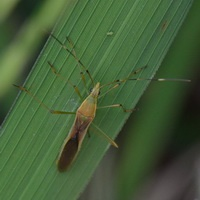insect: (109, 27, 199, 173)
